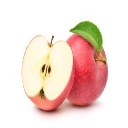apple: (21, 33, 74, 111)
